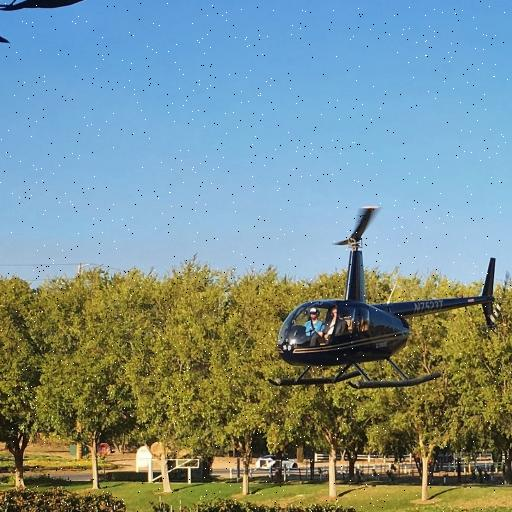helicopter: (248, 206, 512, 400)
